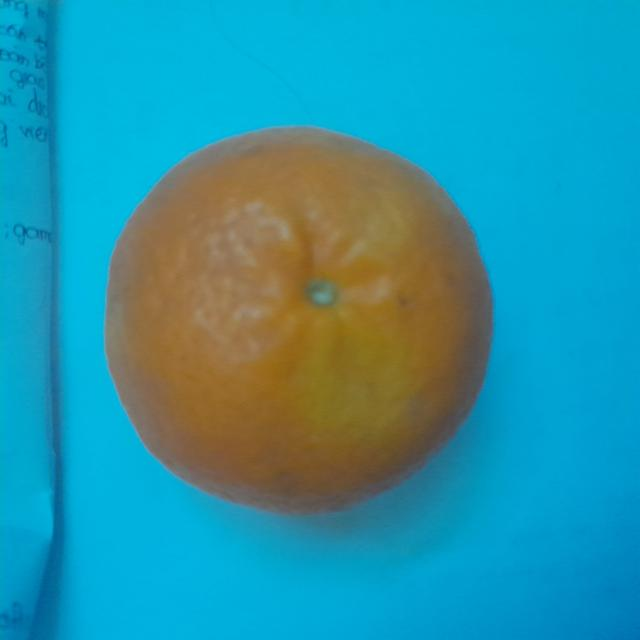Cam: (103, 124, 494, 518)
